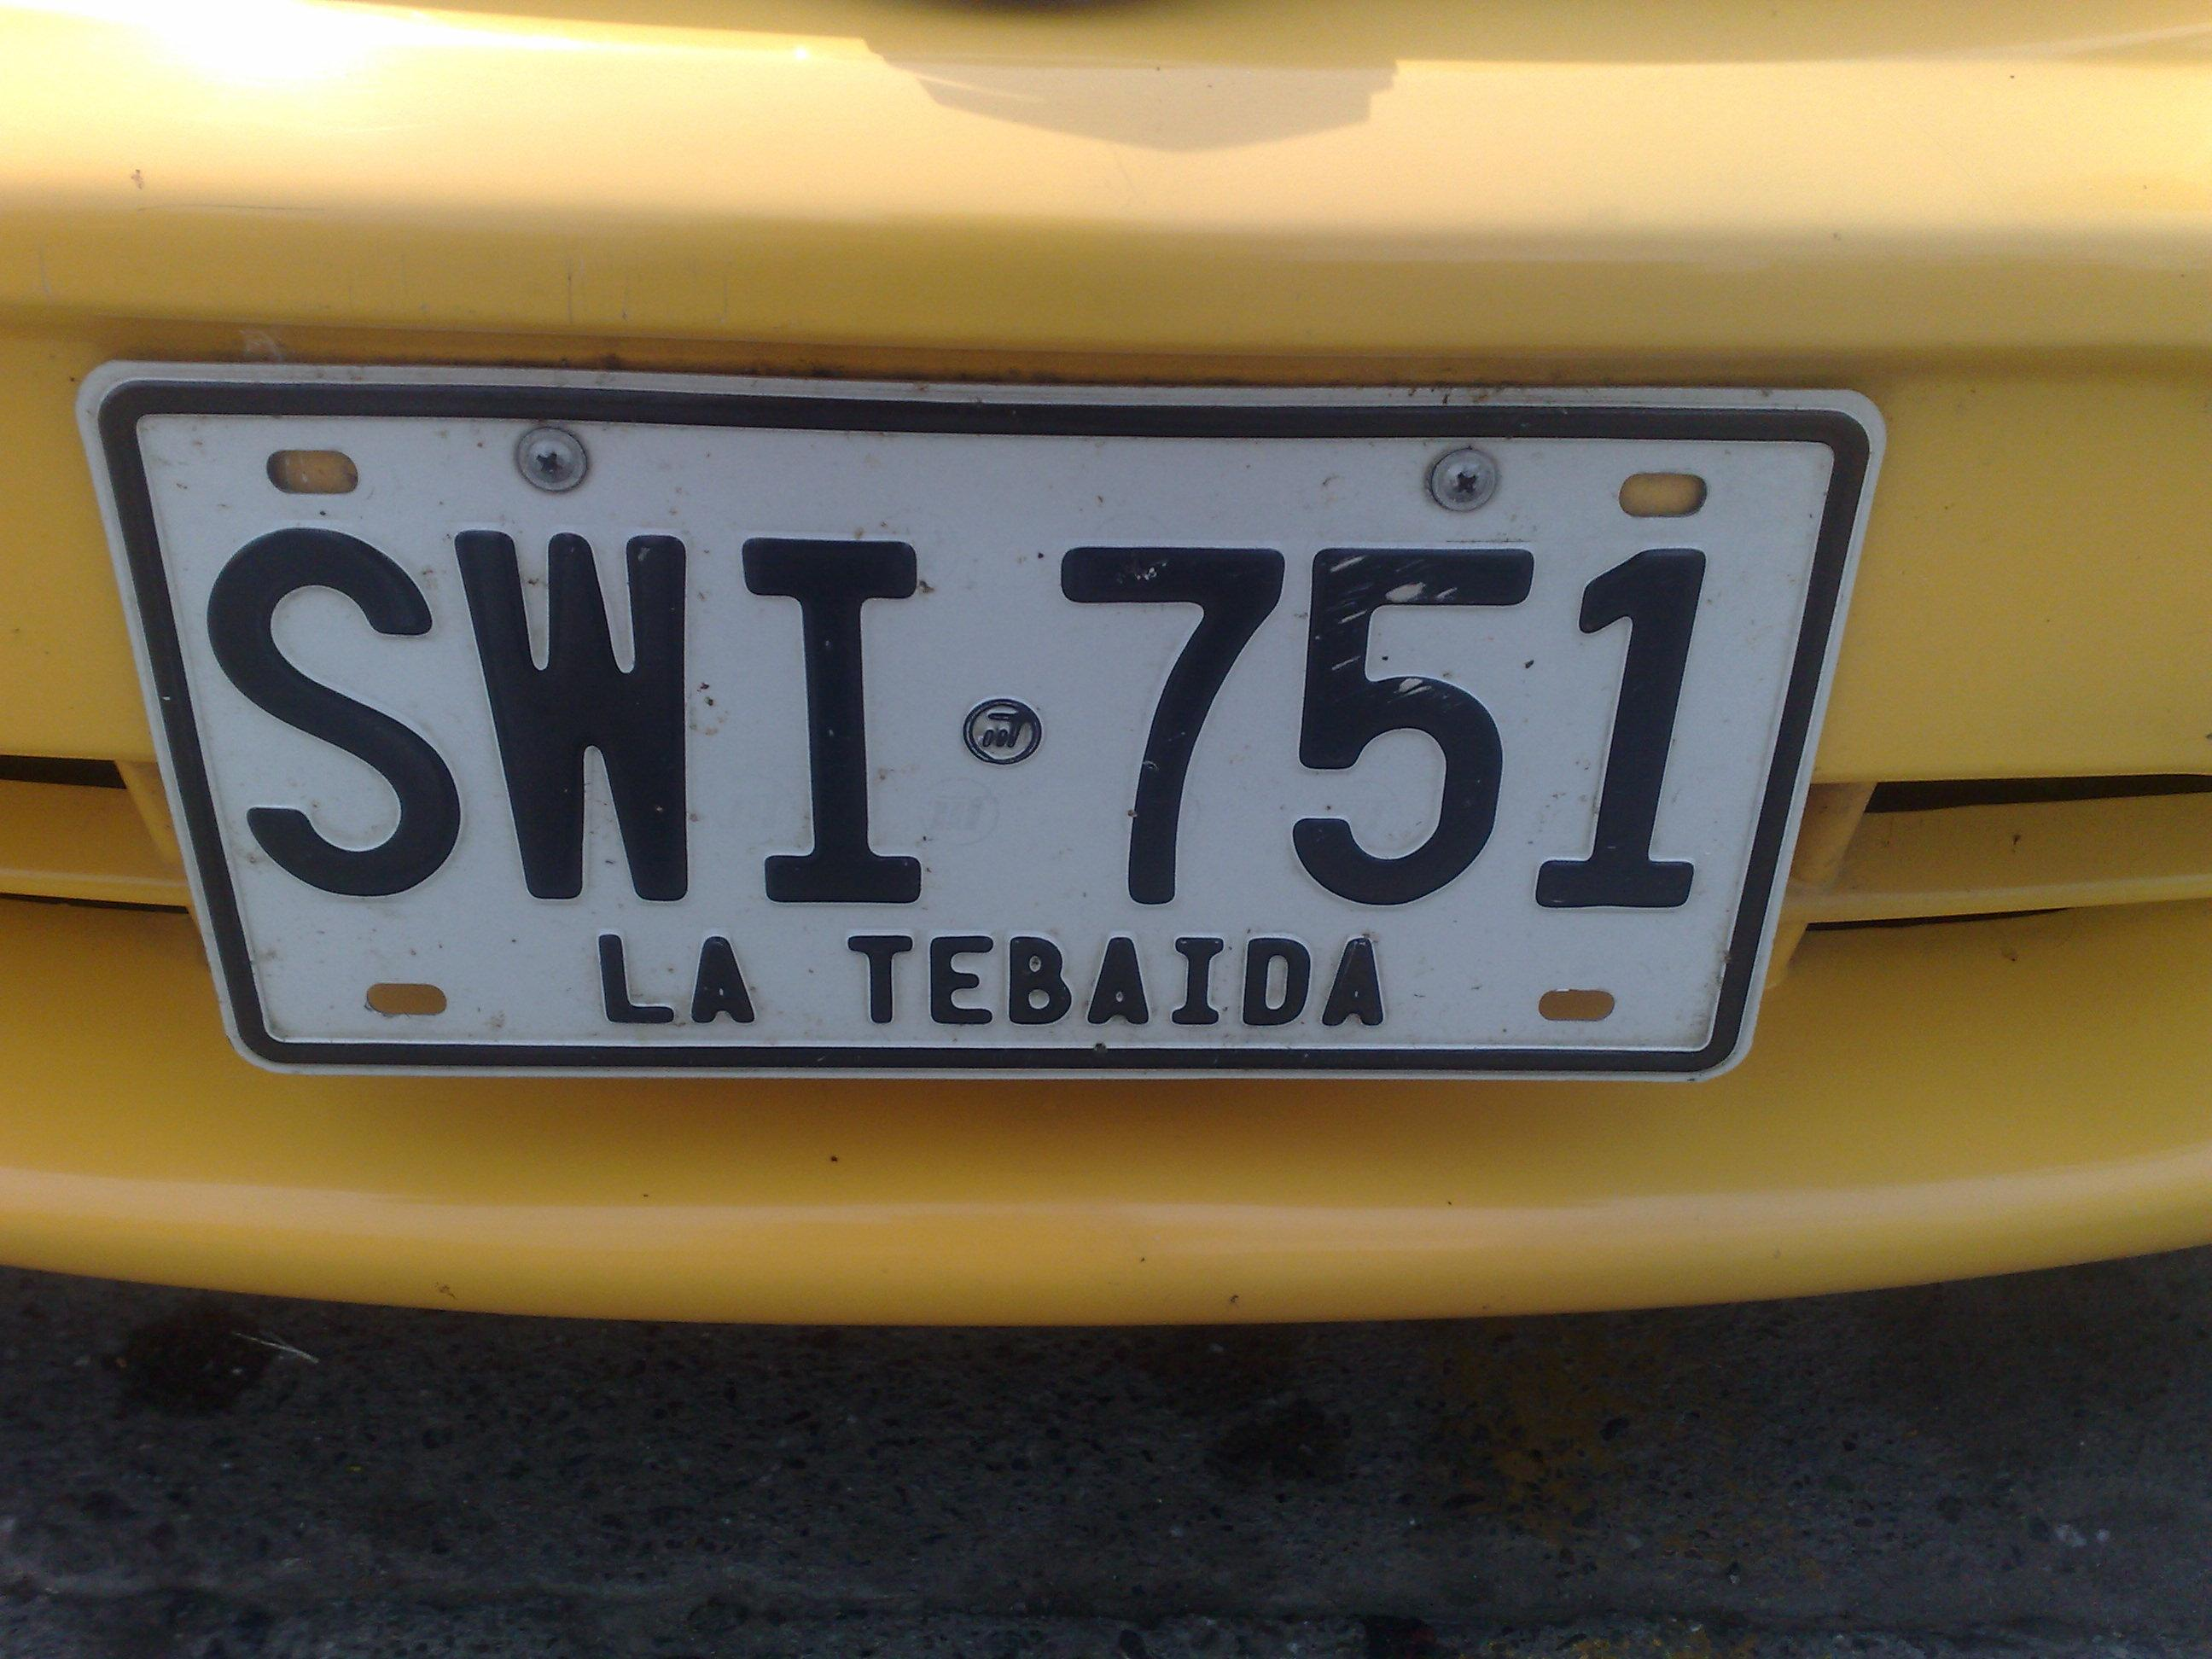placas: (62, 345, 1898, 1103)
